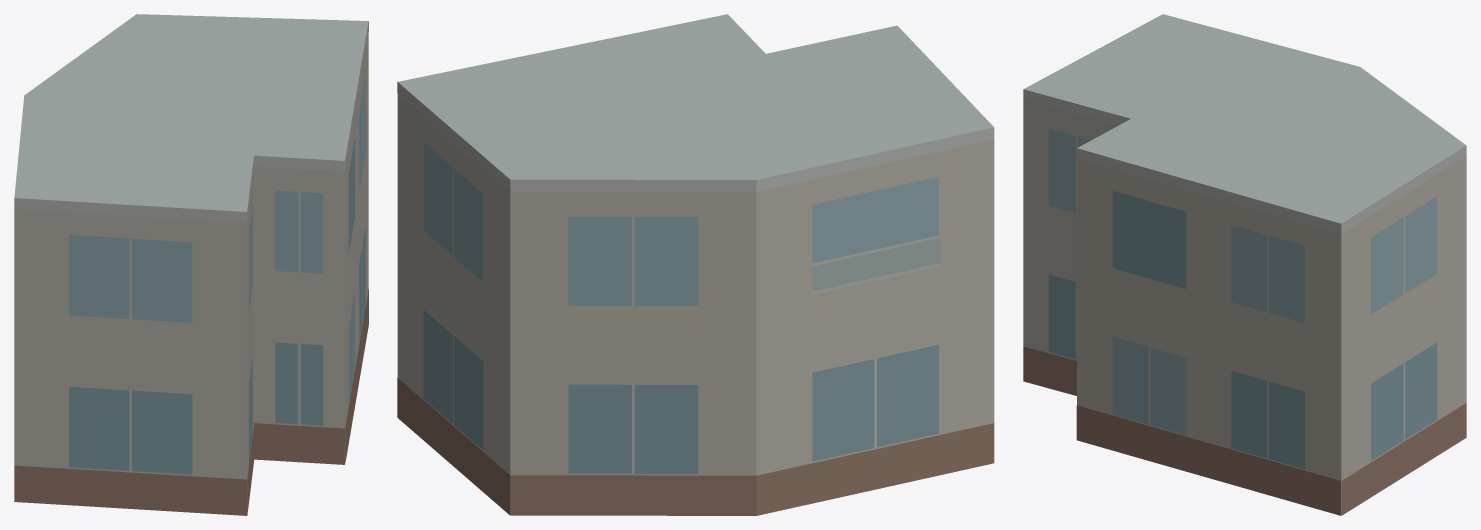
Rendered from survey-upis-32956460.glb.
3 views of the same model, side by side, from view 1: azimuth 30°, elevation 25°; view 2: azimuth 150°, elevation 25°; view 3: azimuth 270°, elevation 25° (orthographic). The views are drawn at different scales.
Visible parts, largest first — view 1: survey-upis-32956460.tmp; view 2: survey-upis-32956460.tmp; view 3: survey-upis-32956460.tmp.
Part boxes in pixels (<box>): survey-upis-32956460.tmp: <box>14,14,368,515</box>; survey-upis-32956460.tmp: <box>397,14,994,515</box>; survey-upis-32956460.tmp: <box>1023,14,1466,515</box>.
Size of the model in its own units: 10.63 by 6.9 by 9.5.
